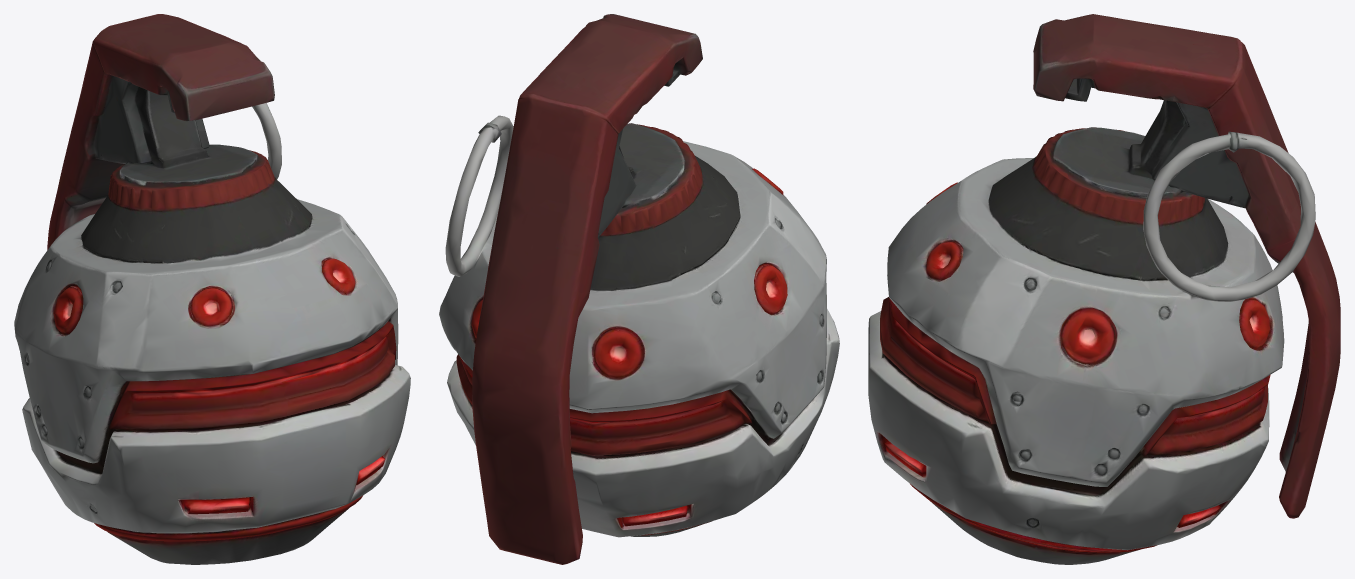
Rendered from grenade-future.glb.
The picture shows the model from 3 angles, left to right: view 1: azimuth 30°, elevation 25°; view 2: azimuth 150°, elevation 25°; view 3: azimuth 270°, elevation 25°; orthographic projection. The views are drawn at different scales.
Parts seen in each view (by area): view 1: tripo_node_ba46c4ea-153f-4892-b98d-fc02a1203b3f; view 2: tripo_node_ba46c4ea-153f-4892-b98d-fc02a1203b3f; view 3: tripo_node_ba46c4ea-153f-4892-b98d-fc02a1203b3f.
Part boxes in pixels (box(x1,y1,x2,y2)): tripo_node_ba46c4ea-153f-4892-b98d-fc02a1203b3f: box(14, 14, 410, 564); tripo_node_ba46c4ea-153f-4892-b98d-fc02a1203b3f: box(439, 14, 839, 564); tripo_node_ba46c4ea-153f-4892-b98d-fc02a1203b3f: box(868, 14, 1340, 564).
Bounding box in the file's own units: 0.6534 × 0.9792 × 0.8198.
Materials: 1 (1 with a texture image).
